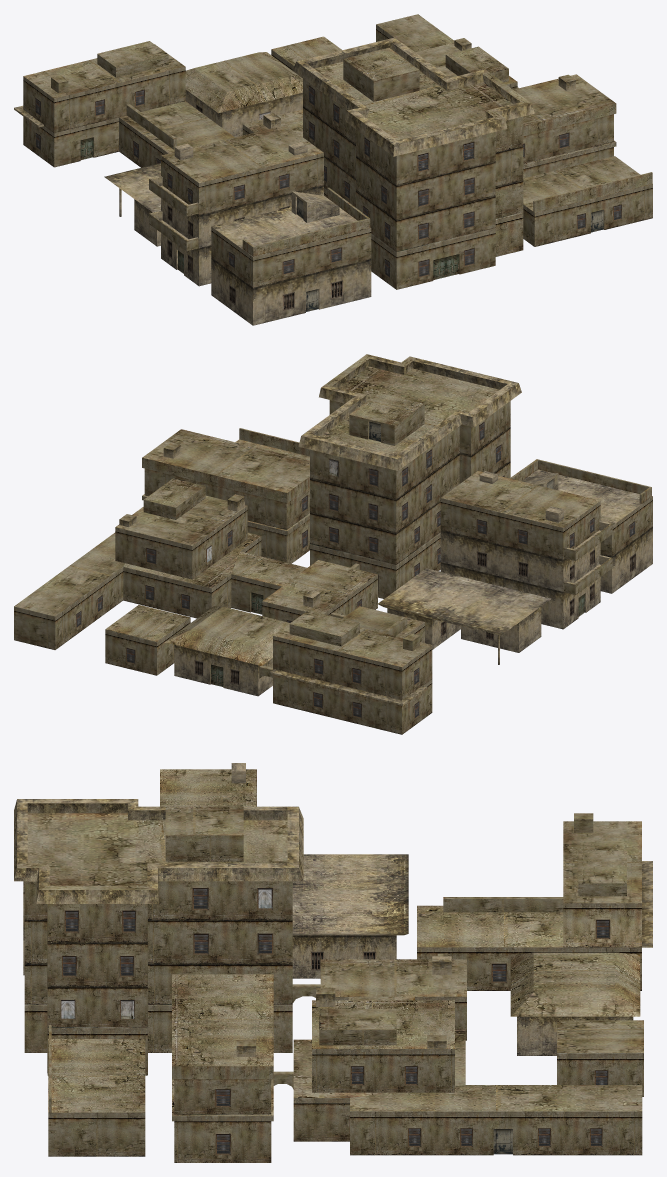
The model's file is mcmog3n.glb.
3 views of the same model, one above another, from view 1: azimuth 30°, elevation 25°; view 2: azimuth 150°, elevation 25°; view 3: azimuth 270°, elevation 25° (orthographic). The views are drawn at different scales.
Visible parts, largest first — view 1: _mcmog3n; view 2: _mcmog3n; view 3: _mcmog3n.
Boxes of the visible parts, x1,y1,x2,y2 form: _mcmog3n: (14, 14, 652, 325); _mcmog3n: (14, 354, 652, 734); _mcmog3n: (14, 763, 652, 1162).
Bounding box in the file's own units: 66.06 × 23.35 × 65.94.
3 materials, 3 textured.
